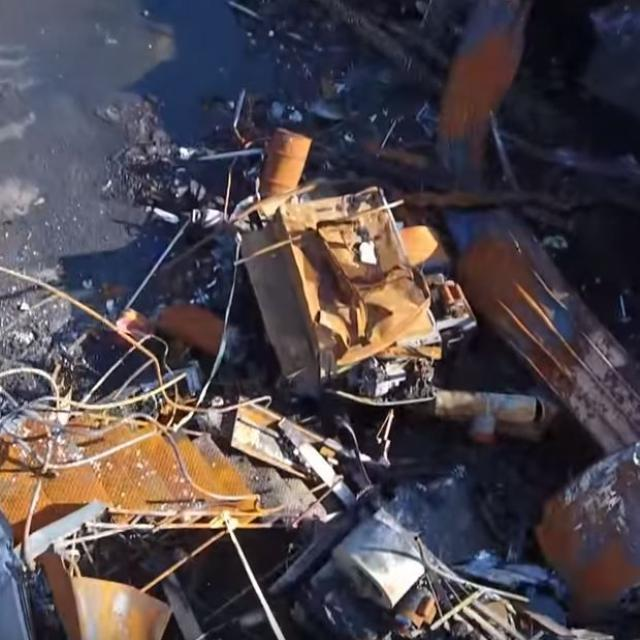collapsed_building: (27, 123, 613, 639)
